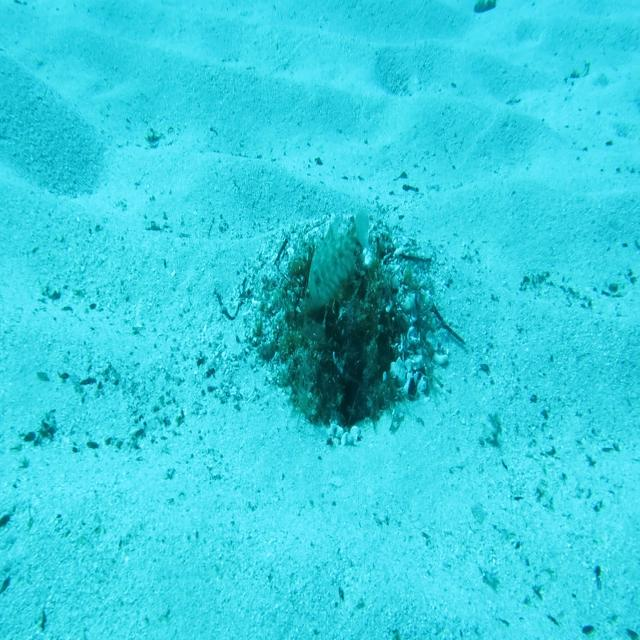NIP_IN: (303, 199, 372, 317)
core_nest: (312, 270, 371, 324)
nest: (234, 195, 462, 462)
vegetation: (474, 0, 498, 18)
